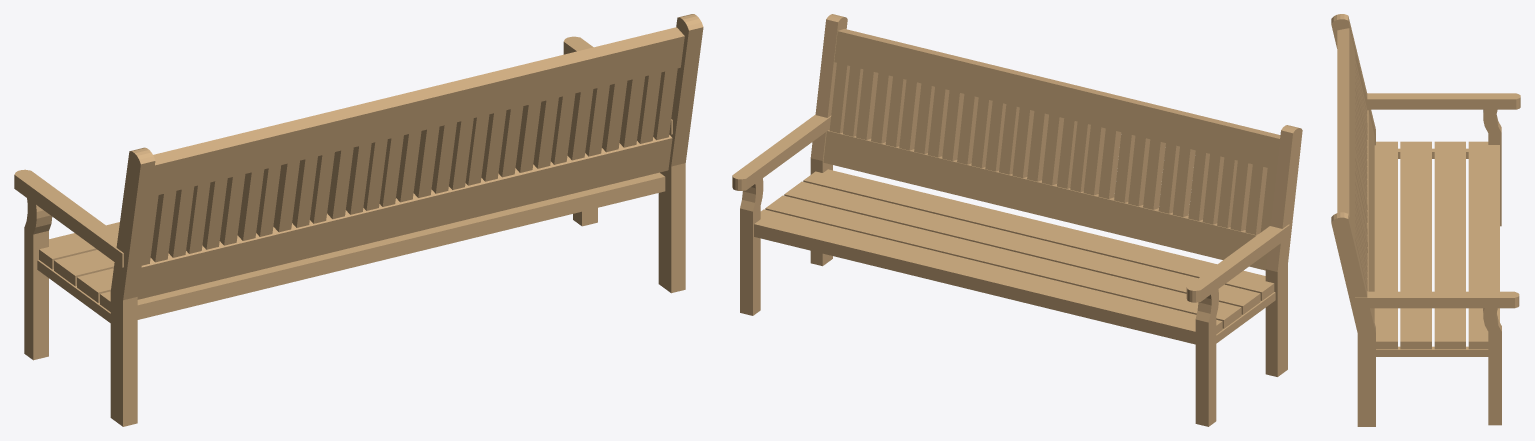
File: bench.FBX
3 renders of one model, left to right at view 1: azimuth 30°, elevation 25°; view 2: azimuth 150°, elevation 25°; view 3: azimuth 270°, elevation 25°, orthographic. The views are drawn at different scales.
Visible parts, largest first — view 1: bench_Part_004, bench_Part_009, bench_Part_012, bench_Part_020, bench_Part_018, bench_Part_008, bench_Part_030, bench_Part_021, bench_Part_014, bench_Part_025, bench_Part_005, bench_Part_015 (+10 smaller); view 2: bench_Part_004, bench_Part_011, bench_Part_020, bench_Part_012, bench_Part_008, bench_Part_018, bench_Part_030, bench_Part_014, bench_Part_009, bench_Part_005, bench_Part_019, bench_Part_025 (+17 smaller); view 3: bench_Part_011, bench_Part_012, bench_Part_006, bench_Part_019, bench_Part_007, bench_Part_027, bench_Part_010, bench_Part_016, bench_Part_018, bench_Part_024, bench_Part_023, bench_Part_028 (+18 smaller).
Part boxes in pixels (x1,y1,x2,y2): bench_Part_004: (455, 49, 593, 160); bench_Part_009: (99, 227, 218, 386); bench_Part_012: (14, 169, 118, 312); bench_Part_020: (315, 138, 472, 235); bench_Part_018: (587, 14, 703, 113); bench_Part_008: (119, 137, 242, 236); bench_Part_030: (337, 81, 462, 196); bench_Part_021: (209, 199, 317, 296); bench_Part_014: (471, 118, 572, 214); bench_Part_025: (562, 100, 635, 209); bench_Part_005: (119, 177, 294, 249); bench_Part_015: (294, 101, 376, 212); bench_Part_004: (906, 47, 1027, 147); bench_Part_011: (732, 139, 830, 315); bench_Part_020: (995, 124, 1124, 215); bench_Part_012: (1182, 230, 1282, 378); bench_Part_008: (1197, 120, 1302, 205); bench_Part_018: (820, 14, 919, 106); bench_Part_030: (1018, 73, 1106, 175); bench_Part_014: (910, 108, 997, 193); bench_Part_009: (1203, 202, 1294, 335); bench_Part_005: (1146, 157, 1292, 225); bench_Part_019: (1117, 272, 1216, 426); bench_Part_025: (852, 93, 919, 191); bench_Part_011: (1379, 291, 1519, 425); bench_Part_012: (1370, 93, 1520, 165); bench_Part_006: (1342, 262, 1426, 348); bench_Part_019: (1417, 151, 1501, 226); bench_Part_007: (1374, 308, 1483, 333); bench_Part_027: (1367, 174, 1460, 227); bench_Part_010: (1400, 254, 1499, 291); bench_Part_016: (1406, 238, 1499, 264); bench_Part_018: (1331, 188, 1361, 267); bench_Part_024: (1357, 345, 1385, 426); bench_Part_023: (1406, 215, 1495, 241); bench_Part_028: (1416, 179, 1499, 207).
Size of the model in its own units: 3.72 by 1.77 by 1.46.
